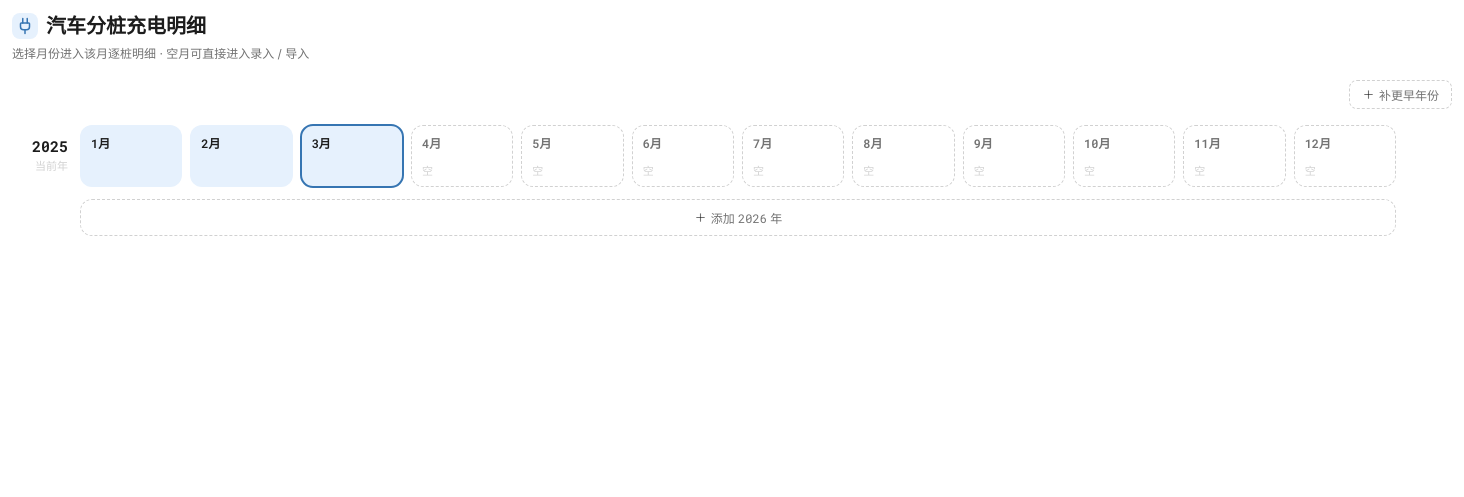
Test: 分桩充电明细 · 复查补钉 › ❗电表卡与空态横幅也要吃车型过滤 —— myUsage/myIds 各自钉死
Step 1. Click the button with class "bmm-card" showing "3月" → {"x": 352, "y": 156}, box 301,125 -> 403,187
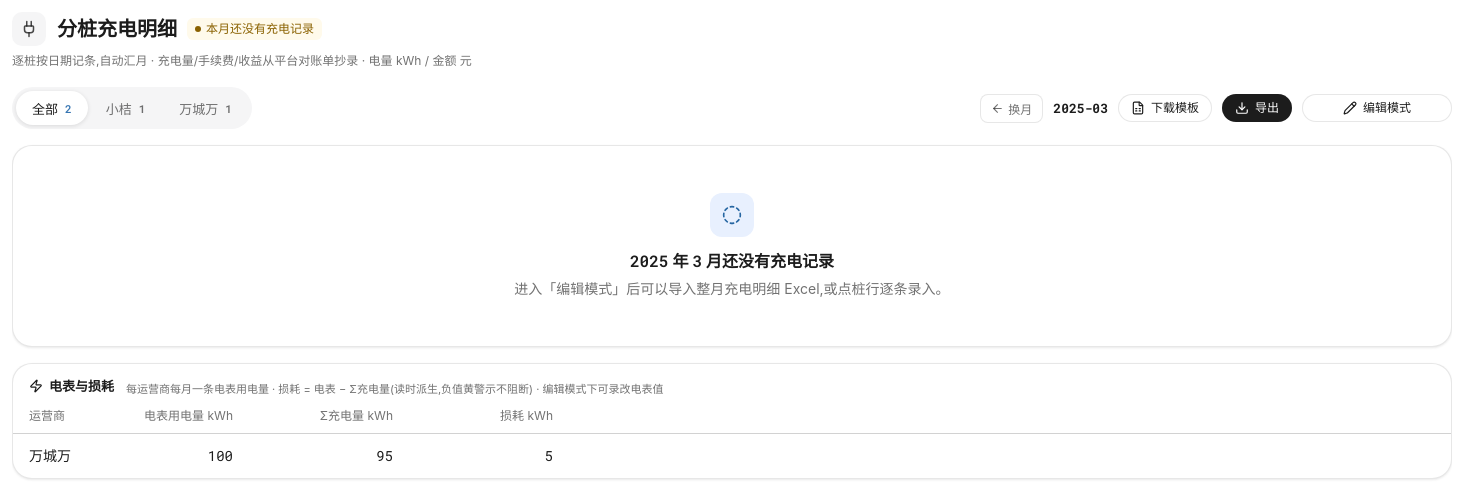
Expected: the element with class "cm-empty" is shown, 514,193 -> 950,297
